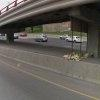Bridge: (1, 2, 91, 40)
